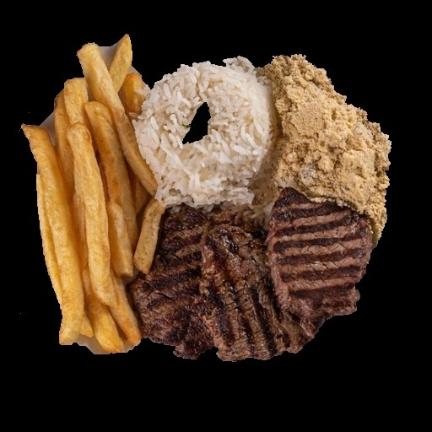meat: (129, 188, 370, 360)
potato: (22, 35, 163, 352)
rice: (133, 59, 273, 206)
